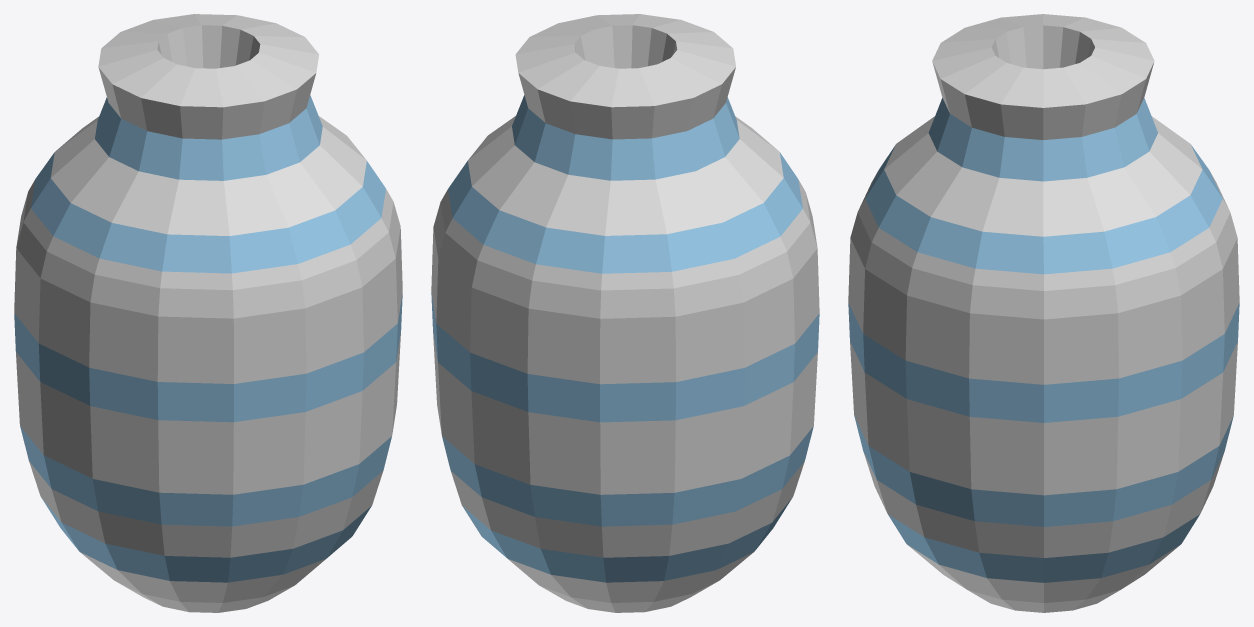
Rendered from vase_1.fbx.
3 views of the same model, side by side, from view 1: azimuth 30°, elevation 25°; view 2: azimuth 150°, elevation 25°; view 3: azimuth 270°, elevation 25° (orthographic).
Visible parts, largest first — view 1: Cylinder.017; view 2: Cylinder.017; view 3: Cylinder.017.
Boxes of the visible parts, <box> form: Cylinder.017: <box>14,14,402,612</box>; Cylinder.017: <box>431,14,819,612</box>; Cylinder.017: <box>848,14,1239,612</box>.
Bounding box in the file's own units: 70.31 × 106 × 70.31.
